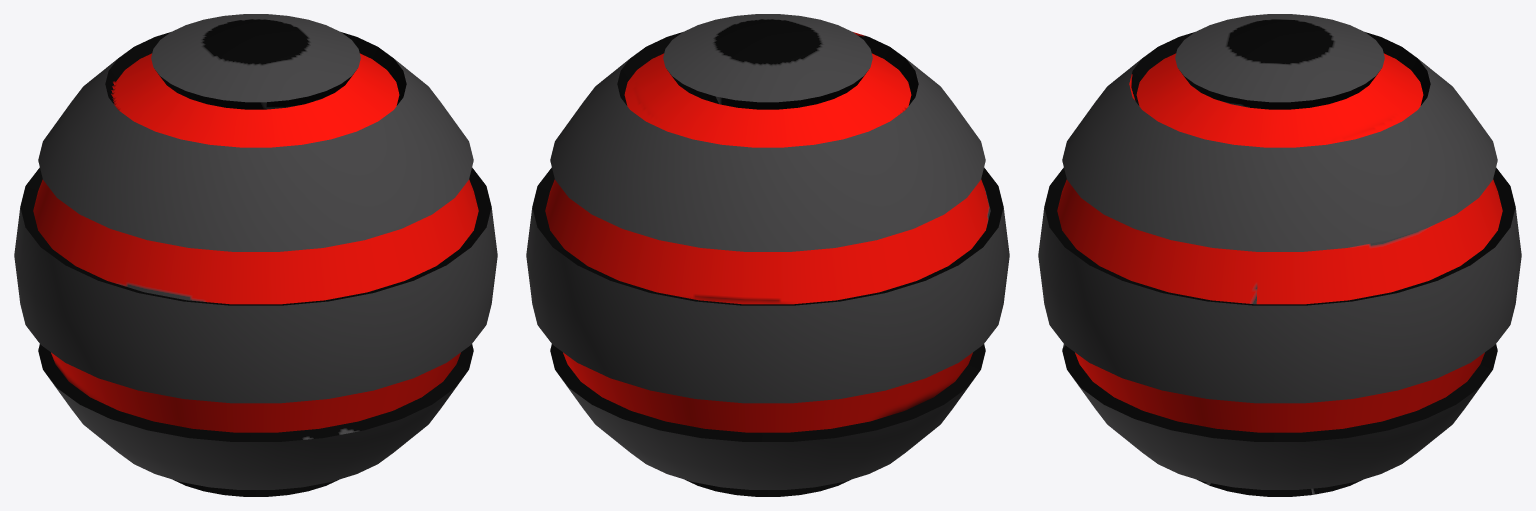
File: mine.obj
The picture shows the model from 3 angles, left to right: view 1: azimuth 30°, elevation 25°; view 2: azimuth 150°, elevation 25°; view 3: azimuth 270°, elevation 25°; orthographic projection.
Parts seen in each view (by area): view 1: Sphere; view 2: Sphere; view 3: Sphere.
Boxes of the visible parts, bbox=[...] form: Sphere: bbox=[14, 14, 497, 496]; Sphere: bbox=[526, 14, 1009, 496]; Sphere: bbox=[1038, 14, 1521, 496].
Bounding box in the file's own units: 0.8952 × 0.9002 × 0.9002.
